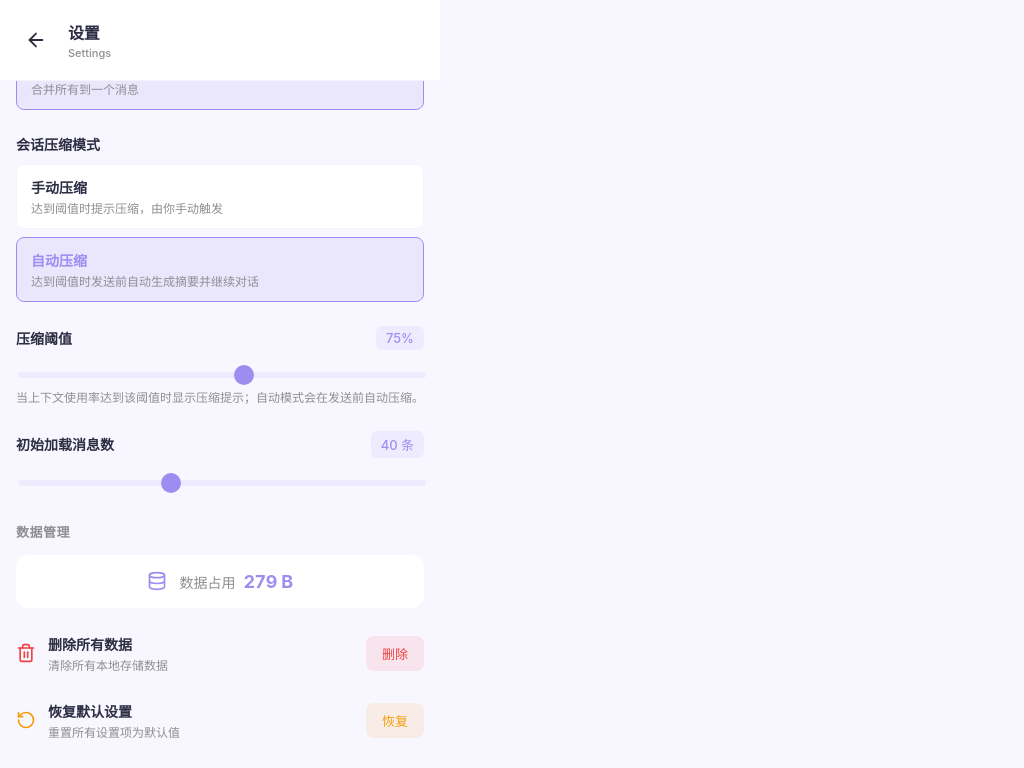
Test: SettingsPage 数据管理 › 恢复默认设置：确认后写入全部默认值并回到默认态
This screenshot has width=1024, height=768.
(page scrolled)
Check: the element with class "settings-page" is shown, box [0, 0, 440, 767]
Check: the button with class "selector-option" shows "自动压缩", box [16, 237, 424, 302]
Click the button with class "restore-btn" at [395, 720], box [366, 703, 424, 738]
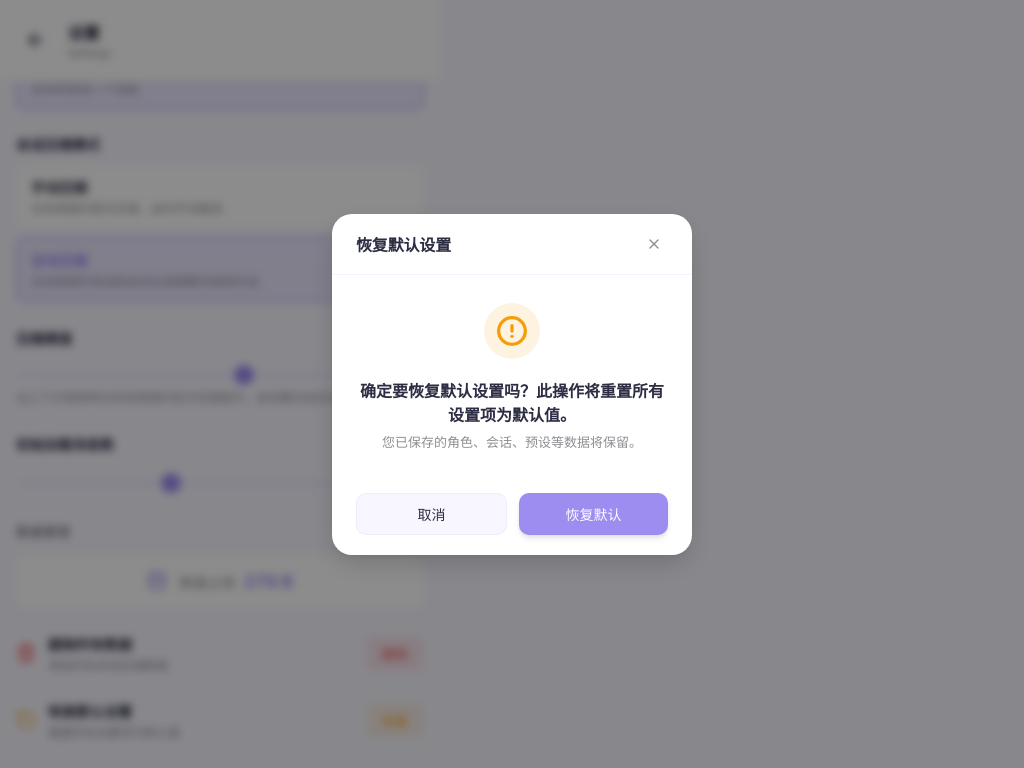
Check: the text "恢复默认设置" is shown, box [48, 703, 132, 720]
Check: the button with class "btn-confirm" is shown
Click the button with class "btn-confirm" at [594, 513], box [519, 492, 668, 534]
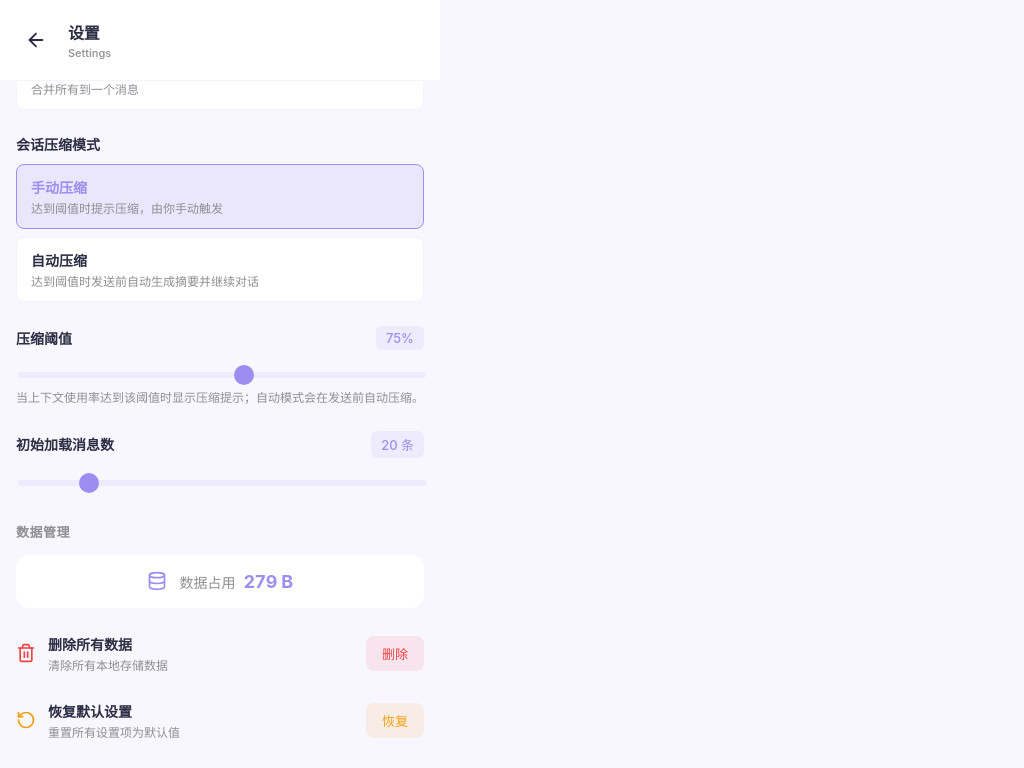
Check: the text with class "slider-value" reads "20 条", box [381, 437, 414, 453]
